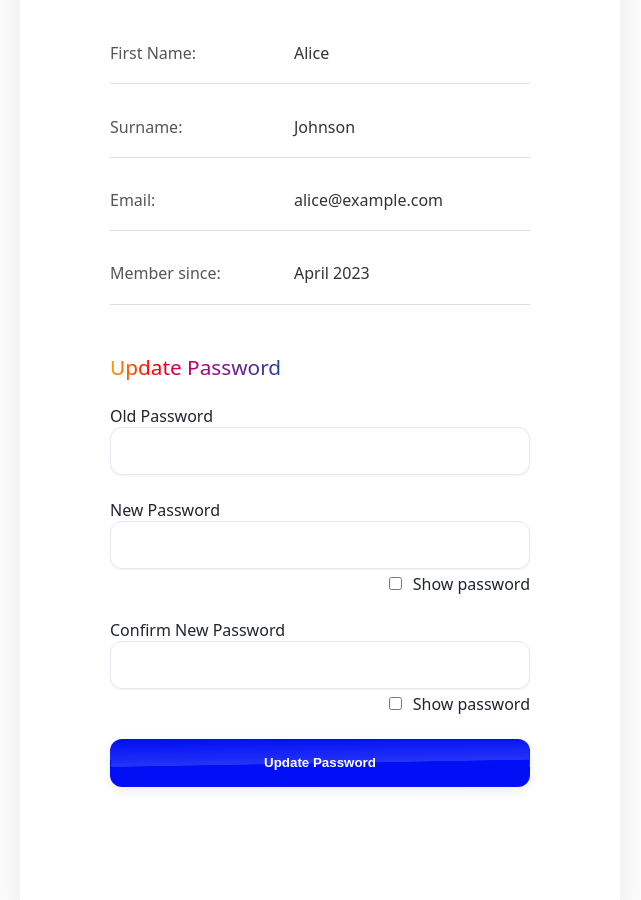
Scenario: Profile Component › updates password successfully
The image size is (641, 900).
(page scrolled)
Expected: the text "Alice" is shown, x1=294 y1=42 x2=329 y2=64
Type "OldPass1!" into the password field labelled "Old Password" at (320, 450), box x1=110 y1=426 x2=530 y2=474
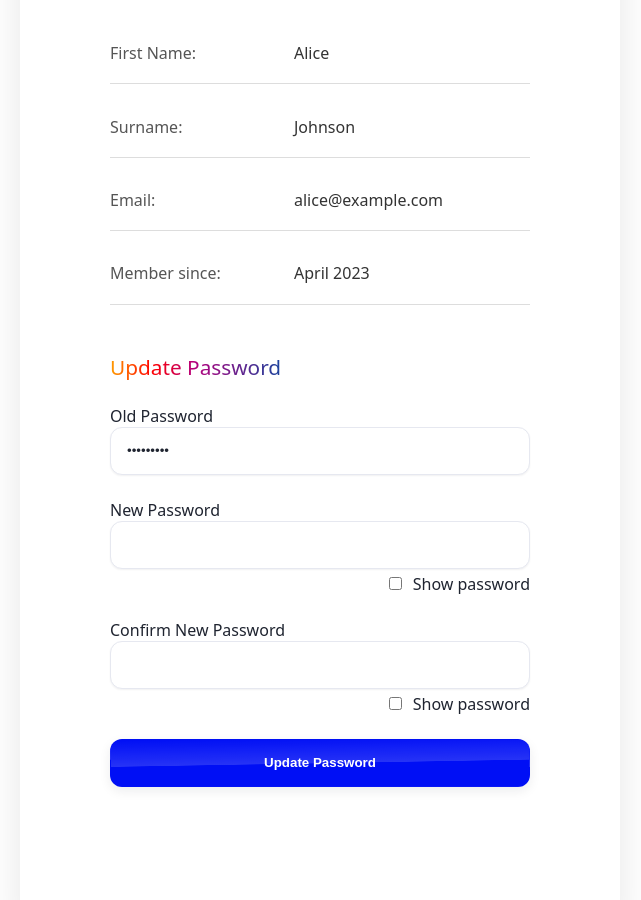
Type "NewPass1!" into the password field labelled "New Password" at (320, 544), box x1=110 y1=520 x2=530 y2=568
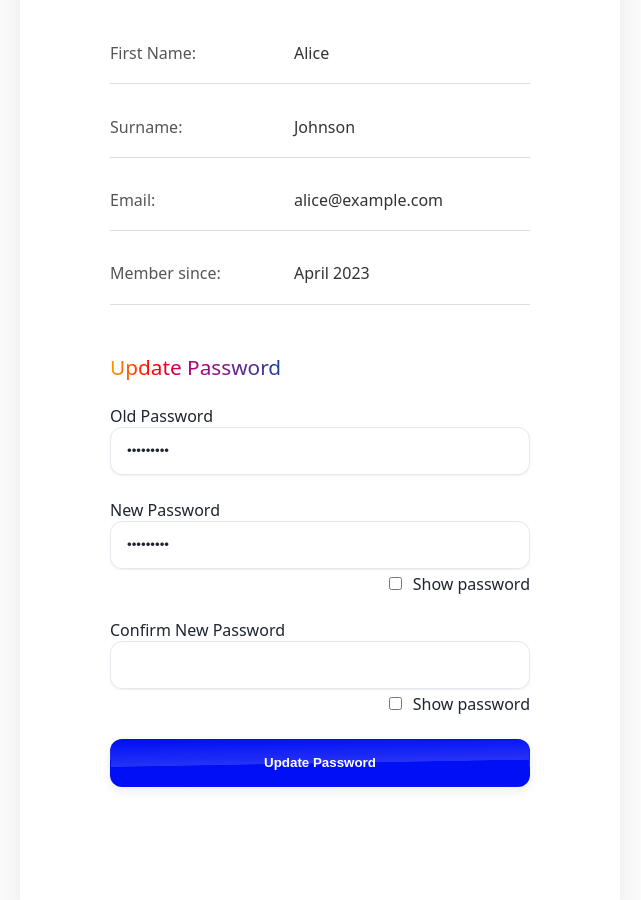
Type "NewPass1!" into the password field labelled "Confirm New Password" at (320, 664), box x1=110 y1=640 x2=530 y2=688
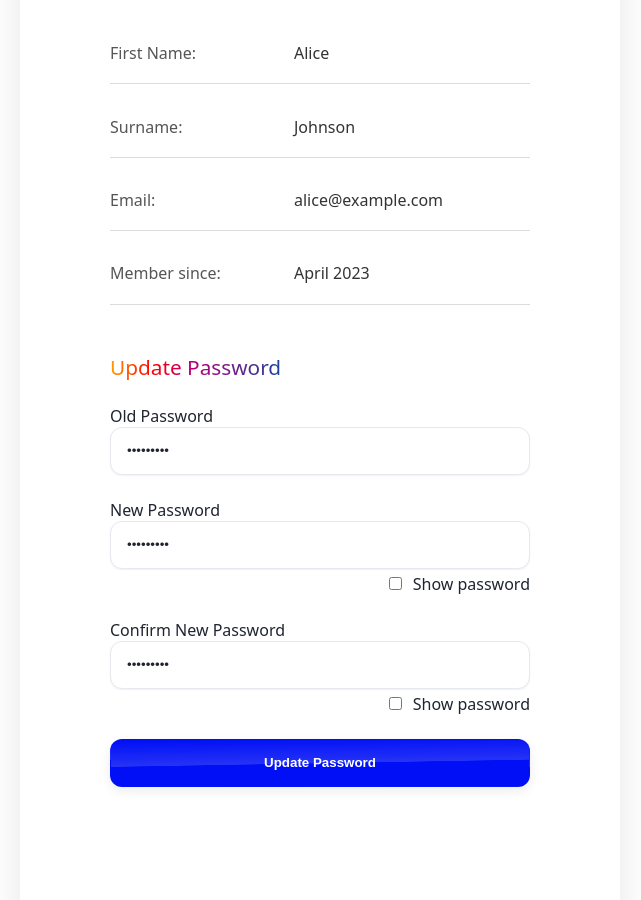
Click the button "Update Password" at (320, 762), box x1=110 y1=738 x2=530 y2=786
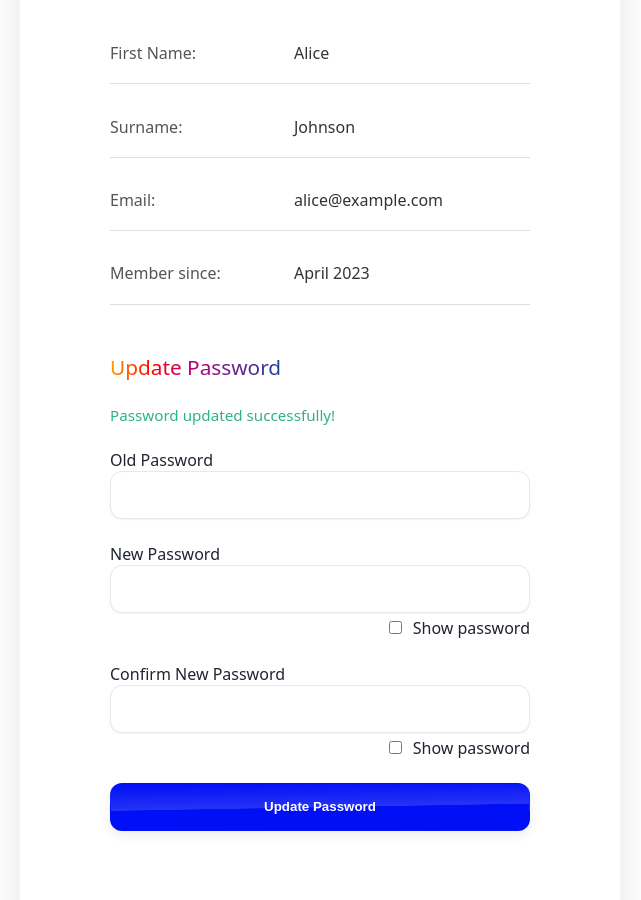
Result: the text "Password updated successfully!" is shown at x1=110 y1=404 x2=335 y2=424
